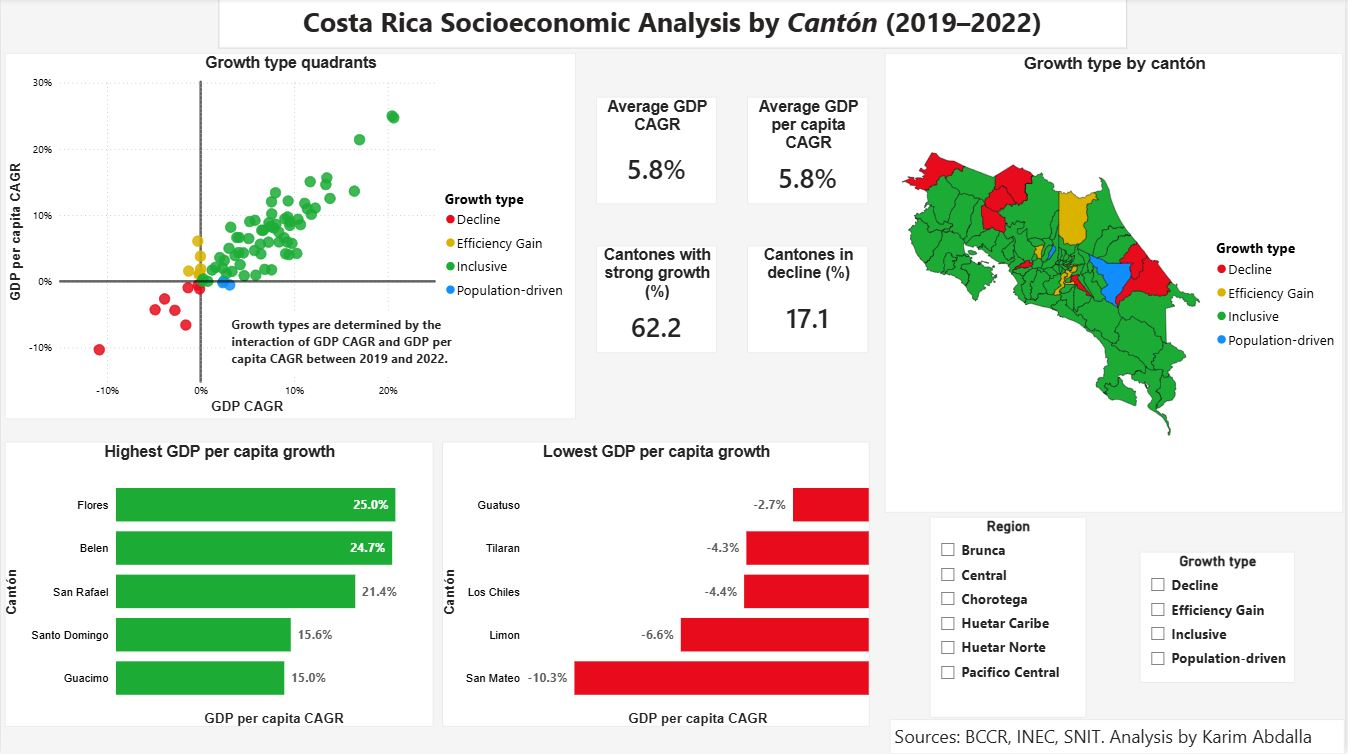

Layout of this report page (visuals, bound fields, positions):
{"tool":"powerbi","page":{"name":"Page 1","canvas":[1600,900],"ordinal":0},"visuals":[{"type":"clusteredBarChart","title":"Lowest GDP per capita growth","fields":{"Category":["socioeconomic_analysis.canton"],"Y":["Sum(socioeconomic_analysis.GDP CAGR (per capita))"],"Series":["socioeconomic_analysis.Growth type"]},"box":[525.3,528.3,508.9,339.3],"z":0},{"type":"shapeMap","title":"Growth type by cantón","fields":{"Category":["socioeconomic_analysis.canton"],"Series":["socioeconomic_analysis.growth_type"],"Value":["CountNonNull(socioeconomic_analysis.growth_type)"]},"box":[1052.6,64.8,545.9,547.4],"z":1000},{"type":"scatterChart","title":"Growth type quadrants","fields":{"X":["Sum(socioeconomic_analysis.gdp_cagr)"],"Y":["Sum(socioeconomic_analysis.gdp_pc_cagr)"],"Series":["socioeconomic_analysis.Growth type"],"Category":["socioeconomic_analysis.canton"]},"box":[4.5,65.5,680.1,436],"z":2000},{"type":"clusteredBarChart","title":"Highest GDP per capita growth","fields":{"Category":["socioeconomic_analysis.canton"],"Y":["Sum(socioeconomic_analysis.GDP CAGR (per capita))"]},"box":[4.5,528.3,510.4,339.3],"z":3000},{"type":"slicer","title":"Growth type","fields":{"Values":["socioeconomic_analysis.Growth type"]},"box":[1355.7,659.2,184.5,156.3],"z":4000},{"type":"cardVisual","title":"Average GDP CAGR","fields":{"Data":["socioeconomic_analysis.Avg GDP CAGR"]},"box":[708.3,117.6,144.3,128],"z":5000},{"type":"cardVisual","title":"Average GDP per capita CAGR","fields":{"Data":["socioeconomic_analysis.Avg GDP per capita CAGR"]},"box":[888.4,117.6,144.3,128],"z":6000},{"type":"cardVisual","title":"Cantones with strong growth (%)","fields":{"Data":["socioeconomic_analysis.% Strong Growth"]},"box":[708.3,294.6,144.3,128],"z":7000},{"type":"cardVisual","title":"Cantones in decline (%)","fields":{"Data":["socioeconomic_analysis.% Decline"]},"box":[888.4,294.6,144.3,128],"z":8000},{"type":"textbox","box":[259.4,0,1081.3,60.3],"z":9000},{"type":"slicer","title":"Region","fields":{"Values":["socioeconomic_analysis.region"]},"box":[1105.7,617.6,186,239.6],"z":10000},{"type":"textbox","box":[1058,858.6,541.7,41.7],"z":11000},{"type":"textbox","box":[269.9,374,291.1,75.4],"z":12000}]}

Visuals, with their boxes in screenshot pixels (x1, y1, x2, y2), scaled from the page's 1600x900 canvas onto the 1348x754 screenshot:
"Lowest GDP per capita growth" clusteredBarChart: (left=443, top=443, right=871, bottom=727)
"Growth type by cantón" shapeMap: (left=887, top=54, right=1347, bottom=513)
"Growth type quadrants" scatterChart: (left=4, top=55, right=577, bottom=420)
"Highest GDP per capita growth" clusteredBarChart: (left=4, top=443, right=434, bottom=727)
"Growth type" slicer: (left=1142, top=552, right=1298, bottom=683)
"Average GDP CAGR" cardVisual: (left=597, top=99, right=718, bottom=206)
"Average GDP per capita CAGR" cardVisual: (left=748, top=99, right=870, bottom=206)
"Cantones with strong growth (%)" cardVisual: (left=597, top=247, right=718, bottom=354)
"Cantones in decline (%)" cardVisual: (left=748, top=247, right=870, bottom=354)
textbox: (left=219, top=0, right=1130, bottom=51)
"Region" slicer: (left=932, top=517, right=1088, bottom=718)
textbox: (left=891, top=719, right=1347, bottom=753)
textbox: (left=227, top=313, right=473, bottom=376)
